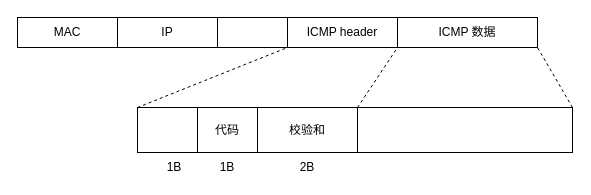
This 591x195 diagram has some shape labels left out. Here are the shapes that lost their labels. From the top down, the centre of each, then its label:
At point (252, 32): "Pro = 1".
At point (167, 129): "类型".
At point (464, 129): "依赖于类型和代码的内容（可变）".
